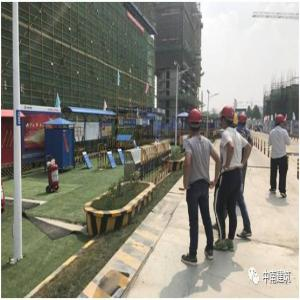red: (188, 105, 203, 138), (222, 103, 236, 129), (238, 113, 248, 129), (276, 114, 286, 130)
